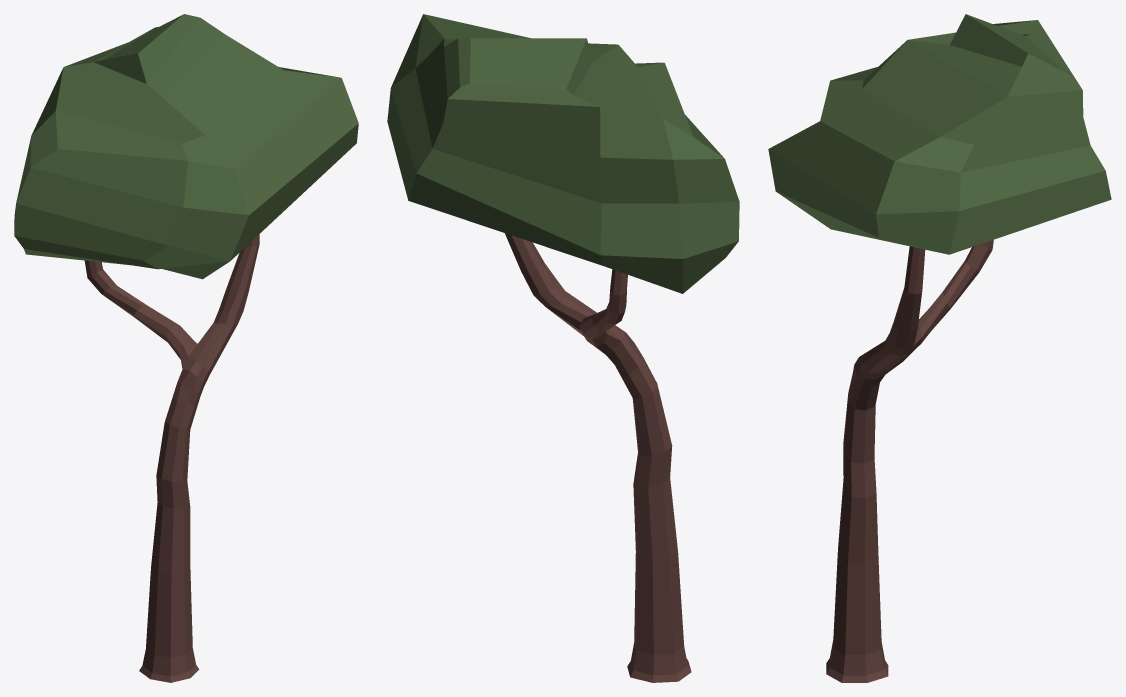
Rendered from apple_3.gltf.
The picture shows the model from 3 angles, left to right: view 1: azimuth 30°, elevation 25°; view 2: azimuth 150°, elevation 25°; view 3: azimuth 270°, elevation 25°; orthographic projection. The views are drawn at different scales.
Visible parts, largest first — view 1: apple_3; view 2: apple_3; view 3: apple_3.
Part boxes in pixels (left/top/right/bottom): apple_3: left=14, top=14, right=358, bottom=682; apple_3: left=387, top=14, right=739, bottom=682; apple_3: left=768, top=14, right=1111, bottom=682.
Bounding box in the file's own units: 1.17 × 2.09 × 0.974.
Materials: 1 (1 with a texture image).
